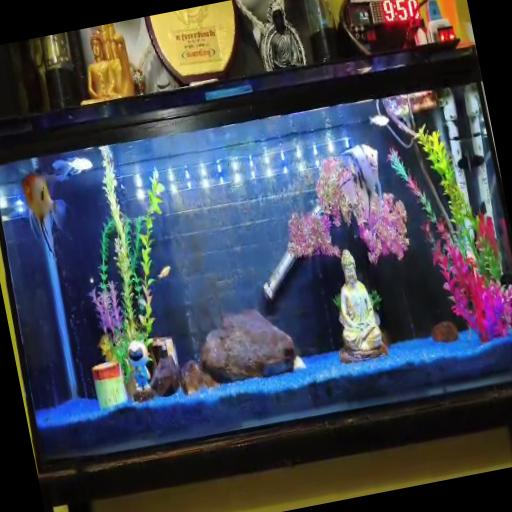Fish: (337, 145, 383, 232), (22, 173, 66, 257), (53, 157, 92, 180), (370, 115, 389, 127), (158, 266, 170, 279)
